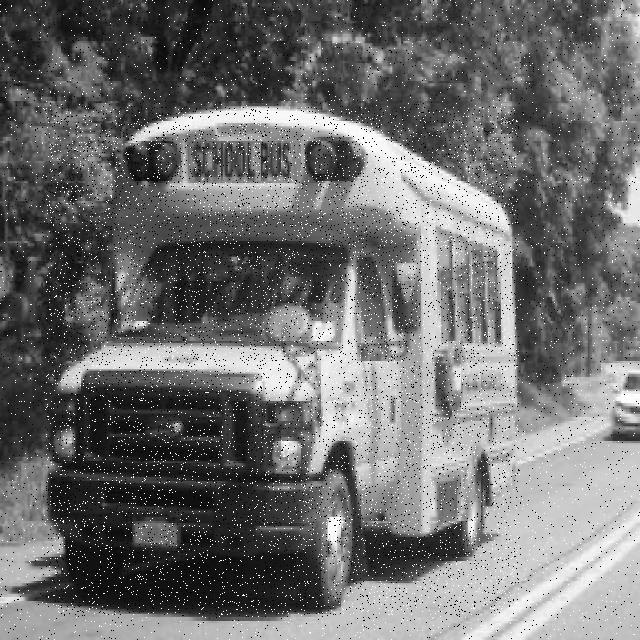Bus- Small: (46, 107, 519, 615)
